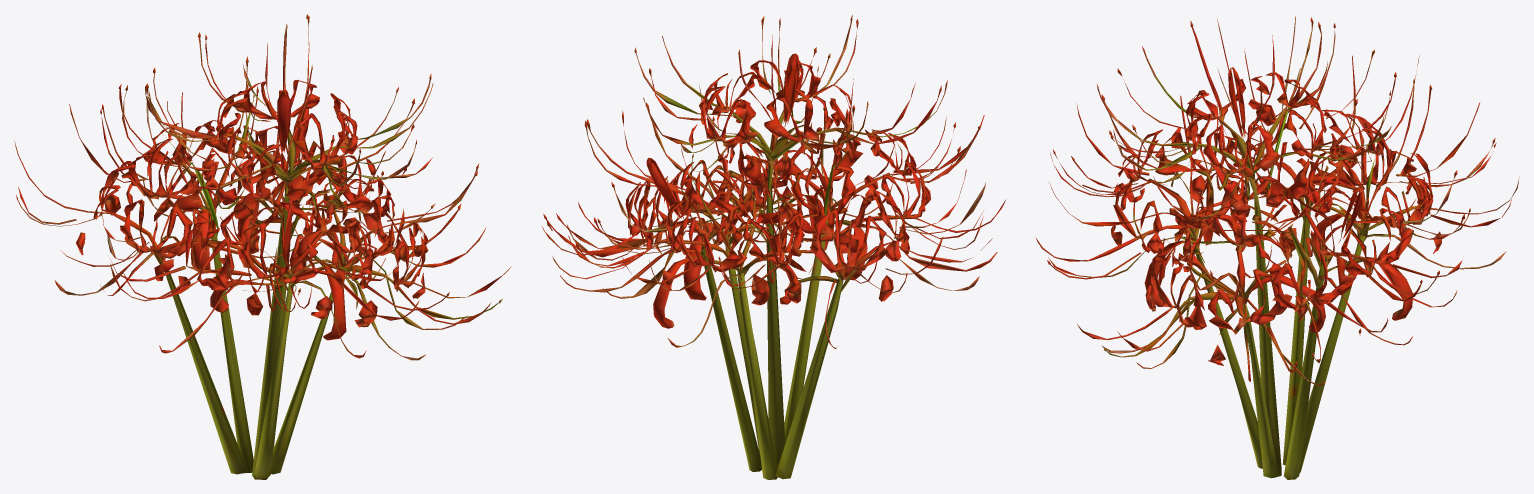
File: ManZhuShaHua.glb
The picture shows the model from 3 angles, left to right: view 1: azimuth 30°, elevation 25°; view 2: azimuth 150°, elevation 25°; view 3: azimuth 270°, elevation 25°; orthographic projection.
Visible parts, largest first — view 1: tripo_node_1af1bb75-894c-4584-b05b-26dbb058396f; view 2: tripo_node_1af1bb75-894c-4584-b05b-26dbb058396f; view 3: tripo_node_1af1bb75-894c-4584-b05b-26dbb058396f.
Boxes of the visible parts, x1,y1,x2,y2 form: tripo_node_1af1bb75-894c-4584-b05b-26dbb058396f: (14, 14, 511, 479); tripo_node_1af1bb75-894c-4584-b05b-26dbb058396f: (542, 15, 1005, 479); tripo_node_1af1bb75-894c-4584-b05b-26dbb058396f: (1035, 16, 1519, 479).
Size of the model in its own units: 0.998 by 0.998 by 0.9864.
1 material, 1 textured.
